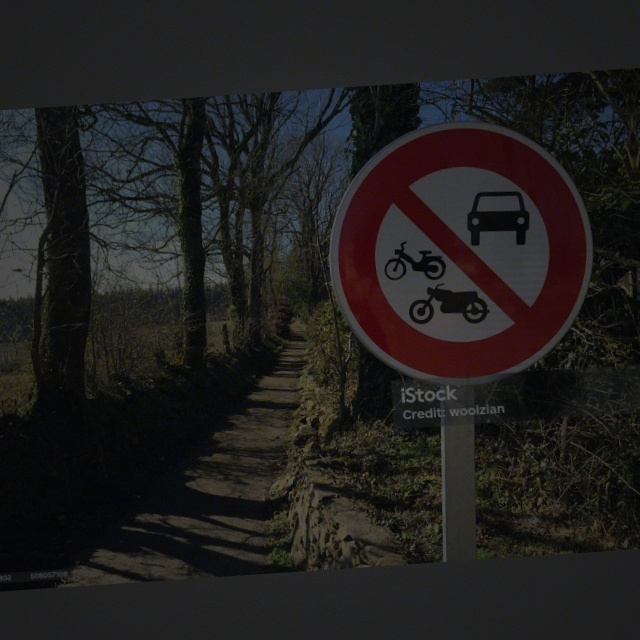All_Motor_Vehicles_Prohibited: (323, 113, 602, 385)
